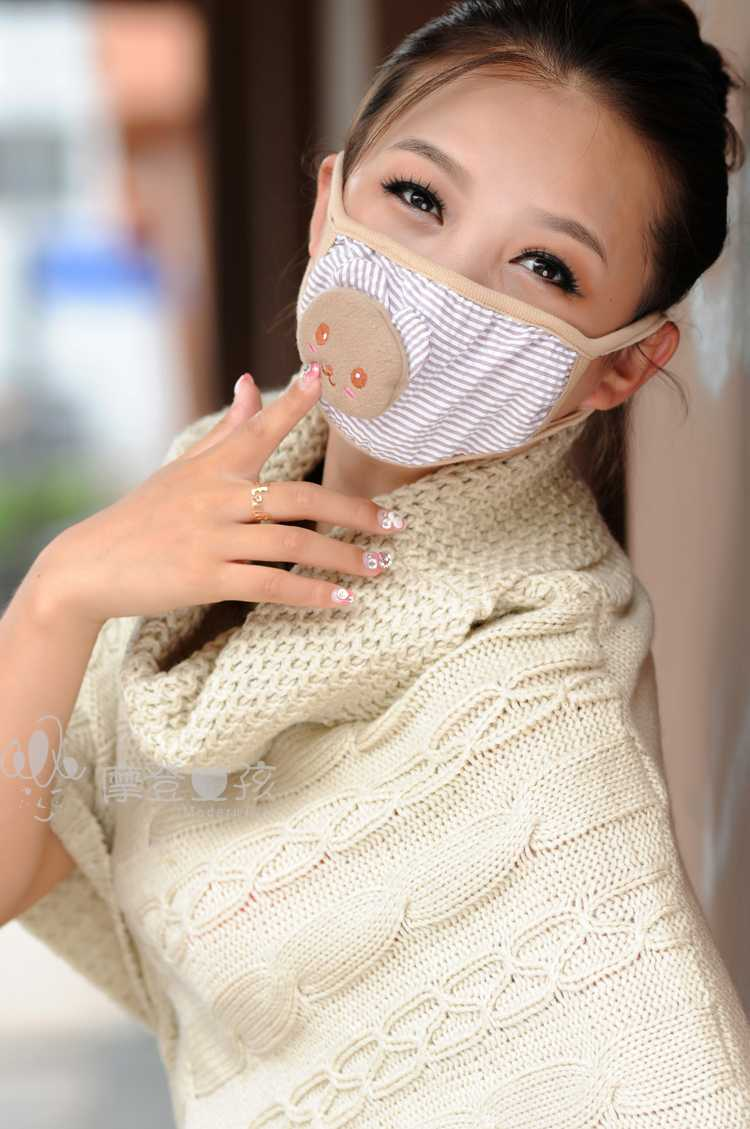face_mask: (297, 33, 623, 472)
